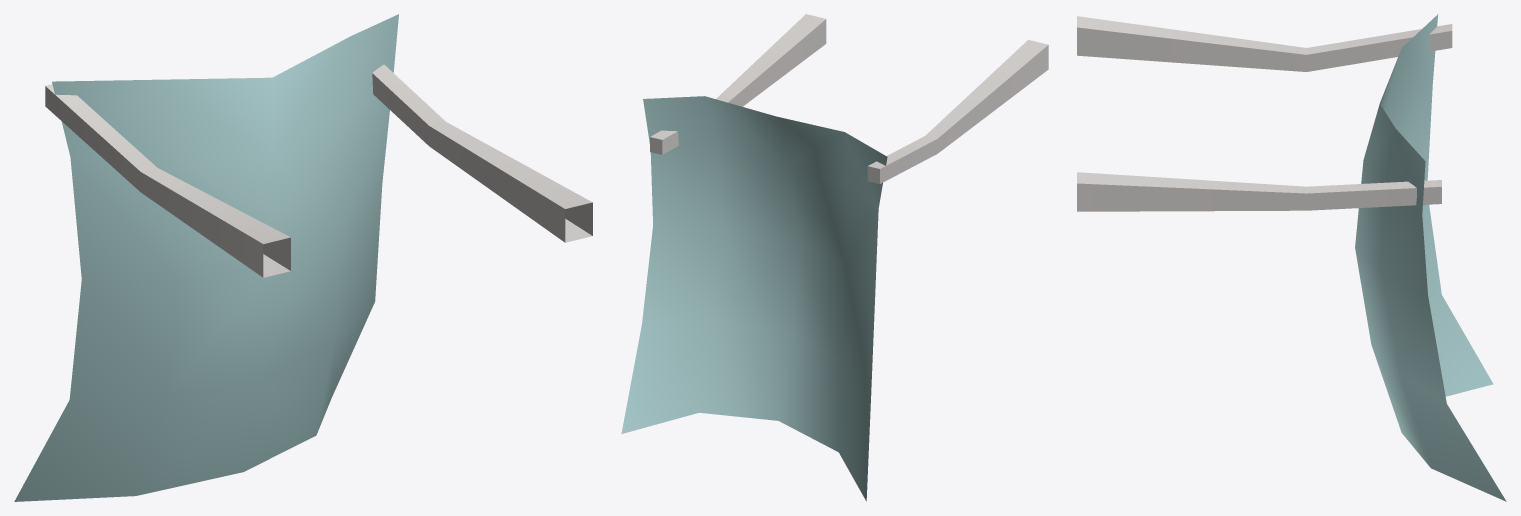
The picture shows the model from 3 angles, left to right: view 1: azimuth 30°, elevation 25°; view 2: azimuth 150°, elevation 25°; view 3: azimuth 270°, elevation 25°; orthographic projection. The views are drawn at different scales.
Visible parts, largest first — view 1: Object42; view 2: Object42; view 3: Object42.
Boxes of the visible parts, box(x1,y1,x2,y2) form: Object42: box(14, 14, 592, 501); Object42: box(621, 14, 1048, 501); Object42: box(1077, 14, 1506, 501).
Size of the model in its own units: 22469 by 27651 by 28935.
